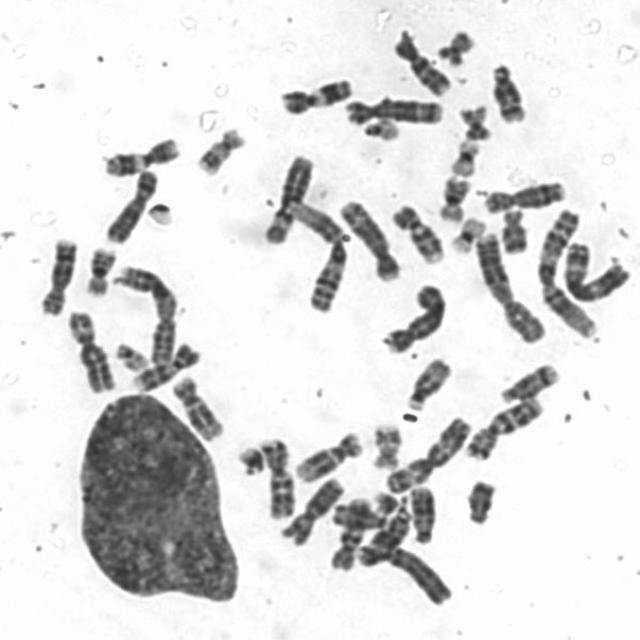A1: (279, 195, 355, 318), (533, 206, 597, 340)
A2: (470, 228, 548, 346), (110, 262, 180, 368)
A3: (380, 412, 473, 496), (560, 238, 632, 303)
B4: (354, 539, 454, 608), (381, 279, 450, 356)
B5: (336, 195, 402, 284), (340, 94, 446, 126)
C10: (390, 29, 452, 97), (325, 496, 371, 568)
C11: (100, 133, 182, 178), (277, 74, 353, 115)
C12: (169, 373, 226, 444), (291, 428, 363, 483)
C6: (261, 152, 321, 248), (64, 307, 115, 393)
C7: (460, 394, 544, 463), (257, 434, 296, 520)
C8: (36, 234, 79, 318), (480, 176, 567, 214)
C9: (387, 200, 447, 266), (127, 340, 200, 393)
D13: (359, 509, 419, 566), (406, 483, 438, 545)
D14: (496, 360, 562, 404), (487, 60, 528, 125)
D15: (404, 356, 454, 411), (329, 500, 392, 527)
E16: (82, 245, 119, 297), (434, 175, 473, 222)
E17: (192, 123, 248, 177), (368, 421, 404, 471)
E18: (462, 476, 496, 526), (498, 205, 528, 254)
F19: (446, 213, 487, 255), (446, 141, 483, 178)
F20: (435, 26, 476, 70), (456, 104, 492, 141)
G21: (234, 441, 266, 477), (369, 487, 400, 519)
G22: (359, 115, 402, 144), (112, 338, 148, 372)
X: (275, 472, 346, 544), (101, 166, 160, 244)
